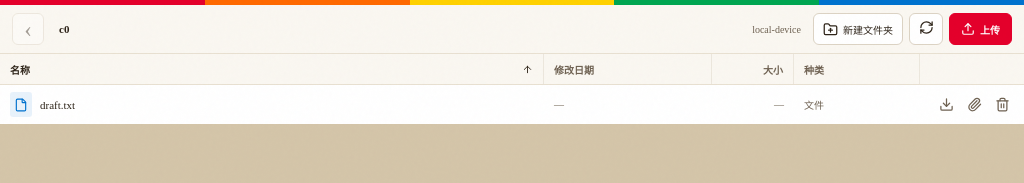
channel file browser (FilesFeature + useAttachmentTransactions) › surfaces an attach rejection as a visible file error
Expected: the row "draft.txt — — 文件" is shown, top-left (0, 85), bottom-right (1023, 124)
Click the button named "附加". click: x=974, y=104
box: top-left (960, 90), bottom-right (988, 118)
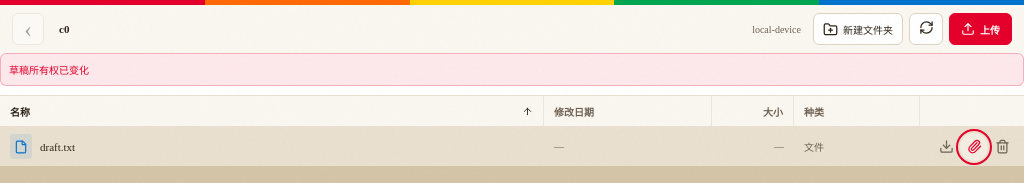
Expected: the message reads "草稿所有权已变化", top-left (9, 65), bottom-right (89, 76)
